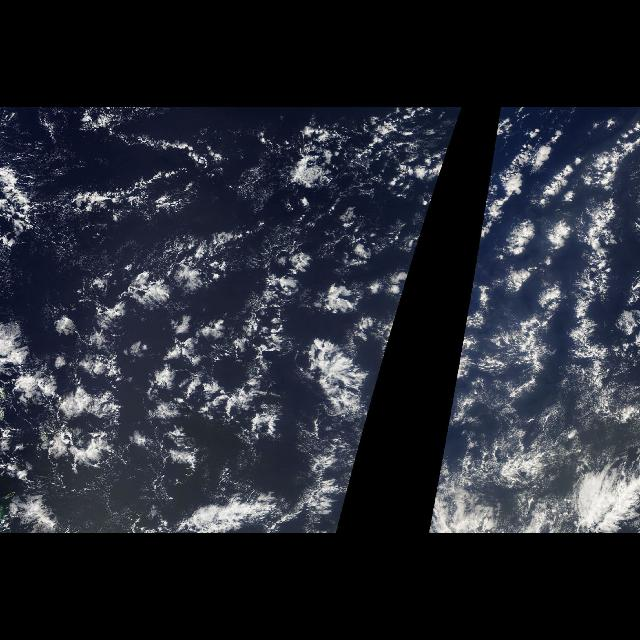Fish: (51, 217, 267, 481)
Flower: (1, 263, 349, 479), (439, 118, 639, 462), (356, 150, 448, 460)
